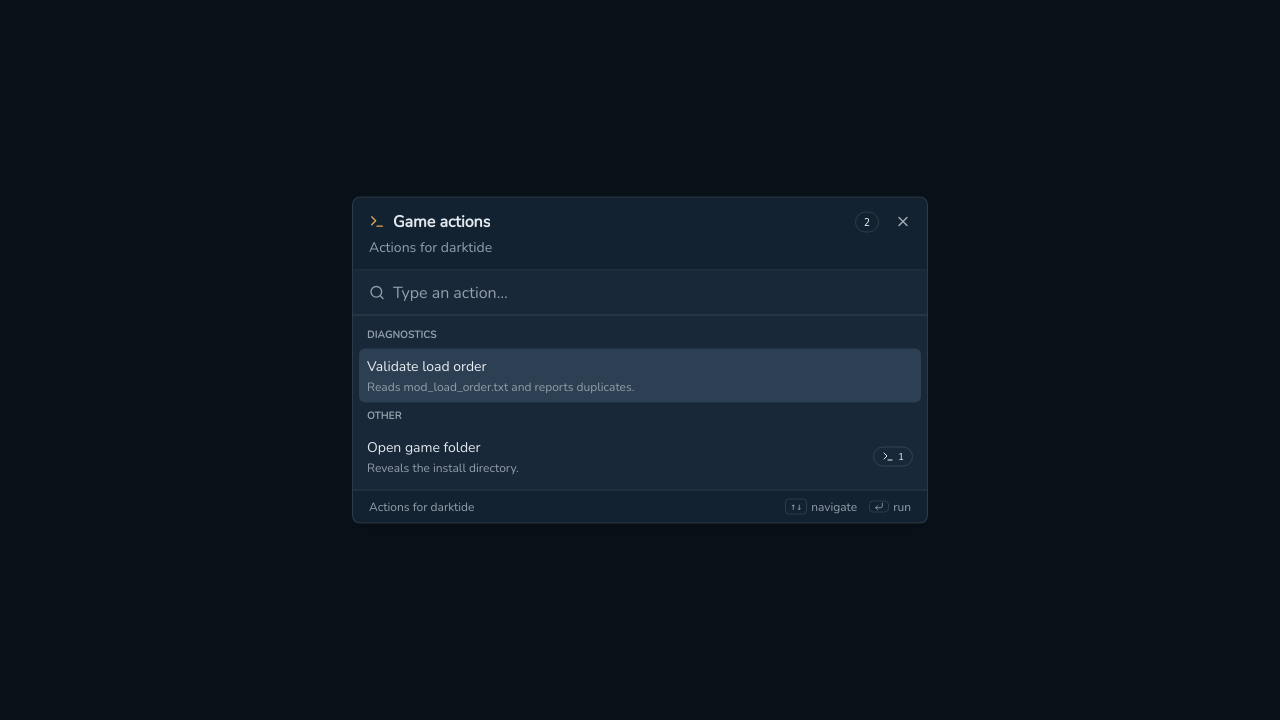
Scenario: action surfaces › closes the palette when an action is picked
Click the text "Validate load order": click(427, 366) [367,356,486,376]
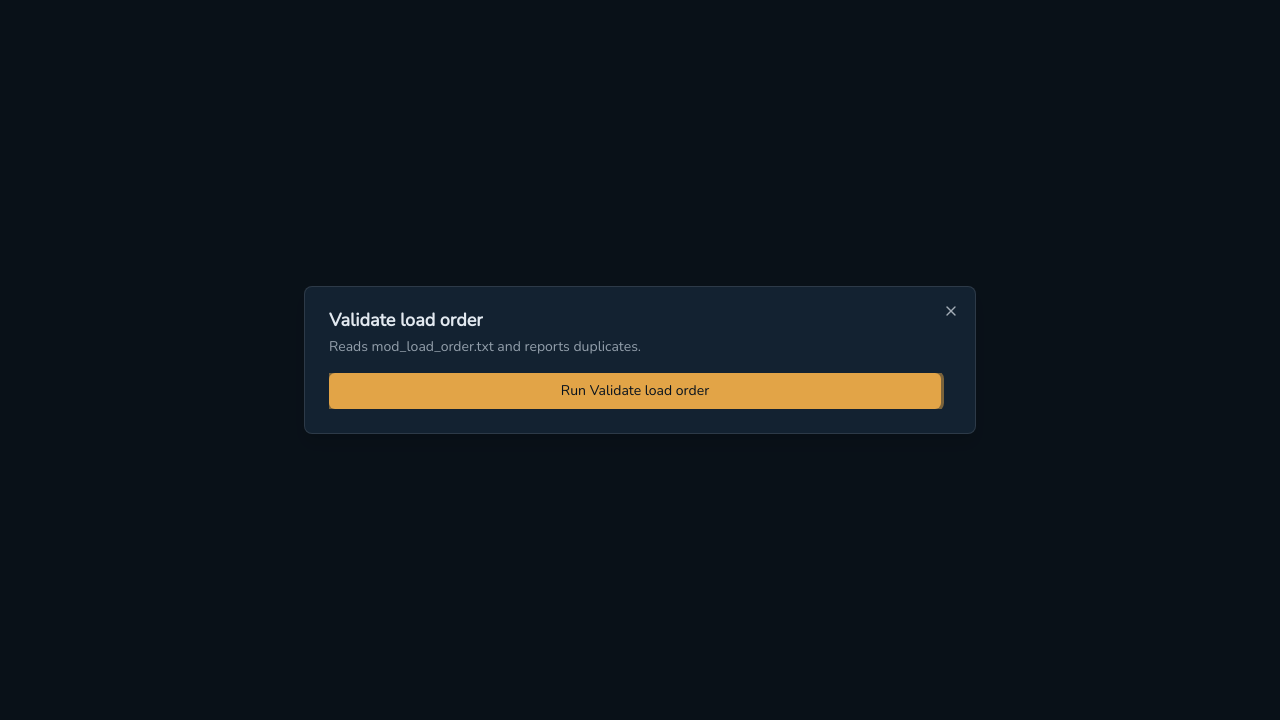
expect the text "Game actions" is gone: met
